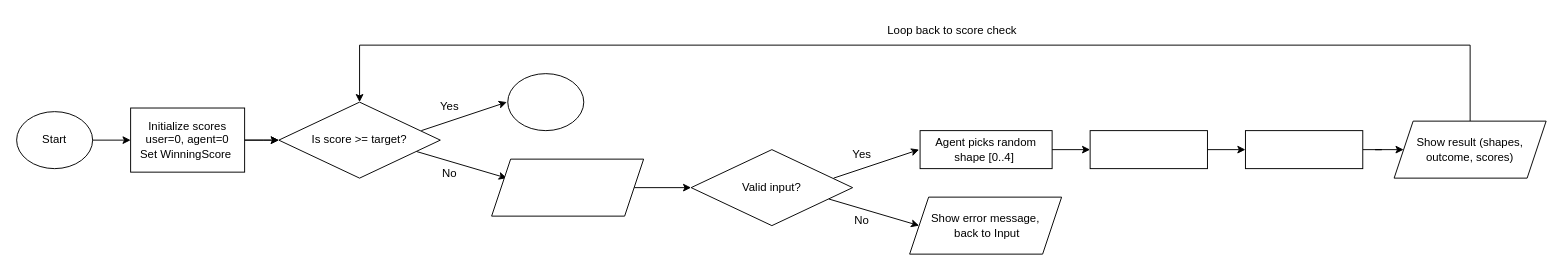
Some shapes in this 1563 by 271 pixel diagram are drawn without their labels. The box of each missing label's shape, as (x1, y1, x2, y2) in pixels:
End: (507, 73, 584, 131)
Resolve round (switch → Win/Lose/Tie): (1089, 130, 1207, 169)
Update scores: (1244, 130, 1363, 169)
User enters shape (R/P/S/Sp/L) or Quit (Q): (491, 158, 644, 216)
